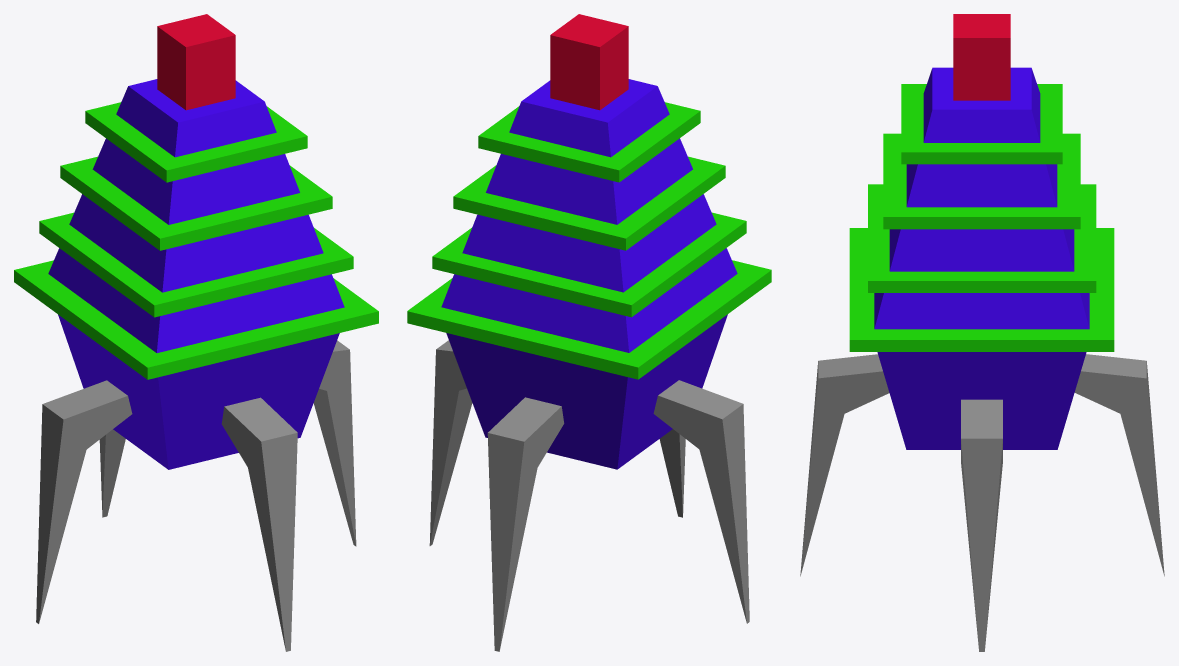
File: Enemy3Model.fbx
3 renders of one model, left to right at view 1: azimuth 30°, elevation 25°; view 2: azimuth 150°, elevation 25°; view 3: azimuth 270°, elevation 25°, orthographic.
Visible parts, largest first — view 1: Spider Inhibitor, Cube.001, Cube.009, Cube.011, Cube.002, Cube.004, Cube.006, Cube.005, Cube.010, Cube.007; view 2: Spider Inhibitor, Cube.001, Cube.007, Cube.011, Cube.002, Cube.004, Cube.006, Cube.005, Cube.010, Cube.009; view 3: Spider Inhibitor, Cube.001, Cube.002, Cube.004, Cube.010, Cube.005, Cube.007, Cube.009, Cube.006.
Part boxes in pixels (box(x1,y1,x2,y2)): Spider Inhibitor: box(48, 79, 344, 469); Cube.001: box(14, 260, 378, 379); Cube.009: box(221, 397, 297, 651); Cube.011: box(36, 380, 132, 623); Cube.002: box(39, 212, 353, 317); Cube.004: box(60, 156, 332, 250); Cube.006: box(157, 14, 235, 110); Cube.005: box(85, 102, 307, 182); Cube.010: box(313, 340, 356, 546); Cube.007: box(99, 429, 125, 517); Spider Inhibitor: box(441, 79, 737, 469); Cube.001: box(407, 260, 771, 379); Cube.007: box(487, 397, 564, 651); Cube.011: box(653, 380, 749, 623); Cube.002: box(432, 212, 746, 317); Cube.004: box(453, 156, 725, 250); Cube.006: box(550, 14, 628, 110); Cube.005: box(478, 102, 700, 182); Cube.010: box(429, 340, 472, 545); Cube.009: box(659, 429, 685, 517); Spider Inhibitor: box(874, 67, 1089, 449); Cube.001: box(849, 228, 1114, 351); Cube.002: box(868, 184, 1096, 292); Cube.004: box(883, 133, 1080, 229); Cube.010: box(961, 399, 1002, 651); Cube.005: box(901, 84, 1062, 164); Cube.007: box(1074, 354, 1164, 576); Cube.009: box(800, 354, 889, 576); Cube.006: box(953, 14, 1010, 100).
Bounding box in the file's own units: 332 × 554 × 333.
